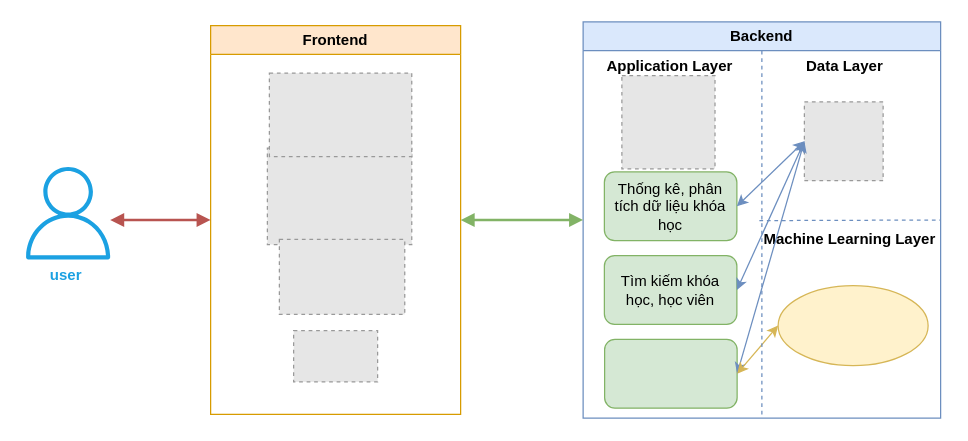
Some shapes in this 968 by 441 pixel diagram are drawn without their labels. Grey dashed boxes stand in for pictures. Here are the shapes that lost their labels. From the top down, the centre of each, then its label:
pixel 852 325: Classification Models
pixel 670 373: Dự đoán kết quả học tập của học viên
